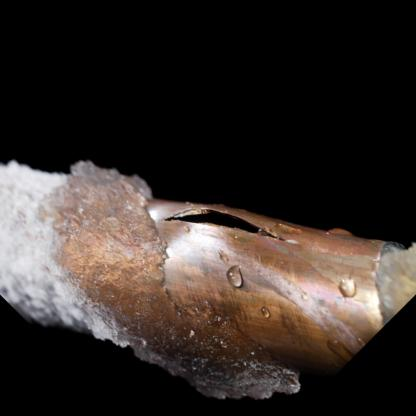burst: (132, 171, 304, 269)
